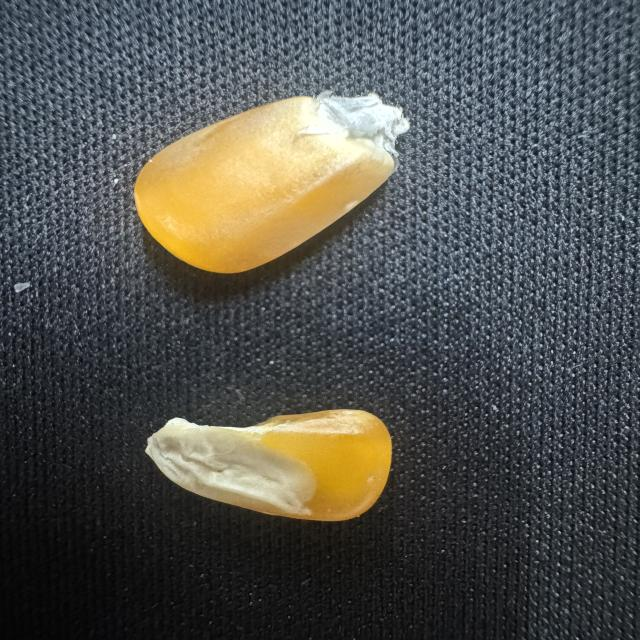Bad-Seed: (140, 405, 406, 534)
Good-Seed: (121, 85, 428, 282)
